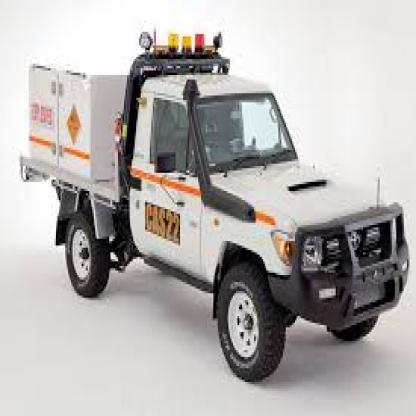light_vehicle: (11, 27, 413, 373)
